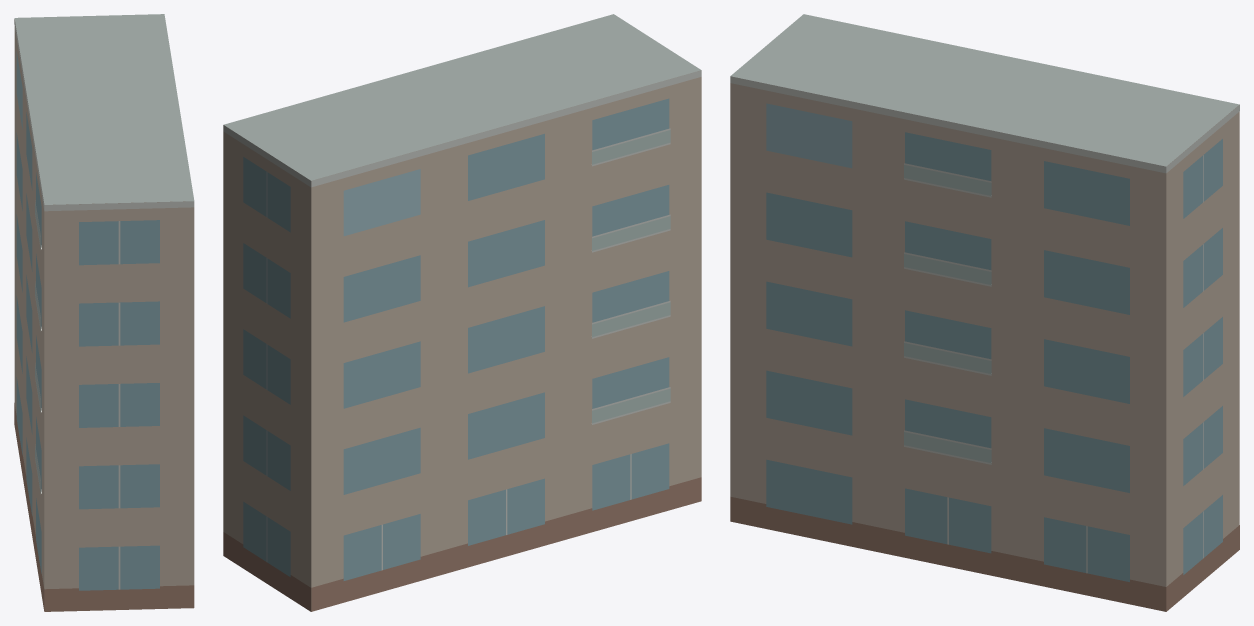
Rendered from survey-upis-32524649.glb.
3 renders of one model, left to right at view 1: azimuth 30°, elevation 25°; view 2: azimuth 150°, elevation 25°; view 3: azimuth 270°, elevation 25°, orthographic. The views are drawn at different scales.
Visible parts, largest first — view 1: survey-upis-32524649.tmp; view 2: survey-upis-32524649.tmp; view 3: survey-upis-32524649.tmp.
Boxes of the visible parts, bbox=[...] form: survey-upis-32524649.tmp: bbox=[14, 14, 194, 611]; survey-upis-32524649.tmp: bbox=[223, 14, 701, 611]; survey-upis-32524649.tmp: bbox=[730, 14, 1239, 611].
Bounding box in the file's own units: 11.7 × 15.9 × 16.5.
